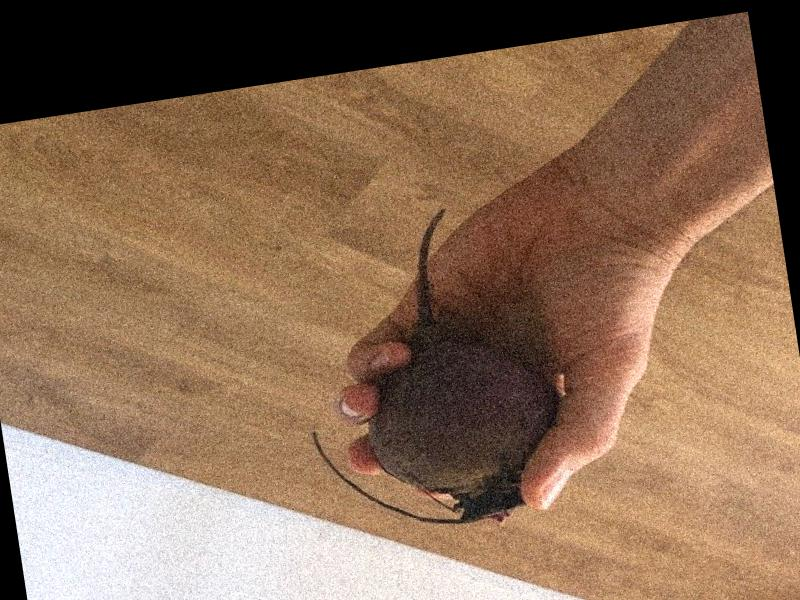Beet: (279, 198, 575, 550)
